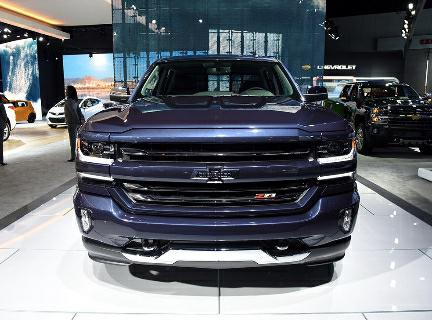雪佛兰-索罗德: (71, 52, 365, 276)
